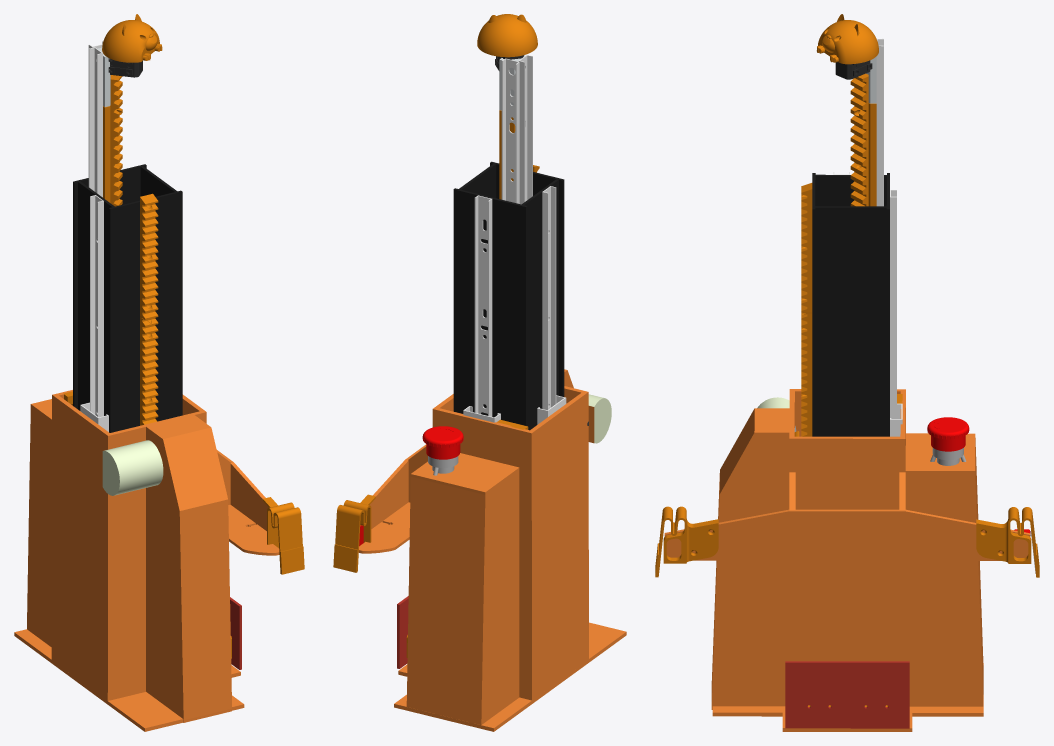
File: Light_House.fbx
3 views of the same model, side by side, from view 1: azimuth 30°, elevation 25°; view 2: azimuth 150°, elevation 25°; view 3: azimuth 270°, elevation 25° (orthographic). The views are drawn at different scales.
Parts seen in each view (by area): view 1: Body2 (×2), Body1 (×10); view 2: Body2 (×2), Body1 (×8); view 3: Body2 (×3), Body1 (×10).
Boxes of the visible parts, x1=… form: Body2 (×2): x1=14, y1=317, x2=279, y2=731; Body1 (×10): x1=73, y1=14, x2=304, y2=669; Body2 (×2): x1=358, y1=369, x2=626, y2=731; Body1 (×8): x1=333, y1=14, x2=564, y2=668; Body2 (×3): x1=664, y1=312, x2=1030, y2=731; Body1 (×10): x1=655, y1=14, x2=1039, y2=728.
Bounding box in the file's own units: 158 × 716 × 370.
